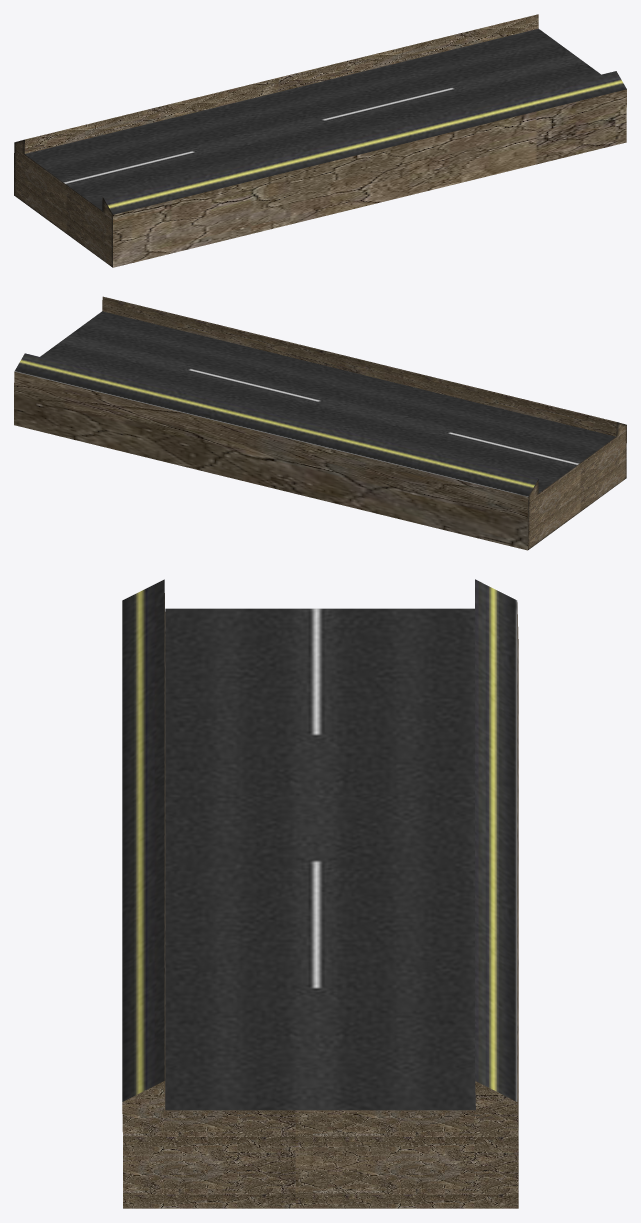
The model's file is Pista.obj.
3 renders of one model, top to bottom at view 1: azimuth 30°, elevation 25°; view 2: azimuth 150°, elevation 25°; view 3: azimuth 270°, elevation 25°, orthographic. The views are drawn at different scales.
Visible parts, largest first — view 1: Box001; view 2: Box001; view 3: Box001.
Boxes of the visible parts, x1=… form: Box001: x1=14, y1=14, x2=626, y2=267; Box001: x1=14, y1=296, x2=626, y2=550; Box001: x1=122, y1=579, x2=518, y2=1208.
Size of the model in its own units: 300 by 35.66 by 100.
